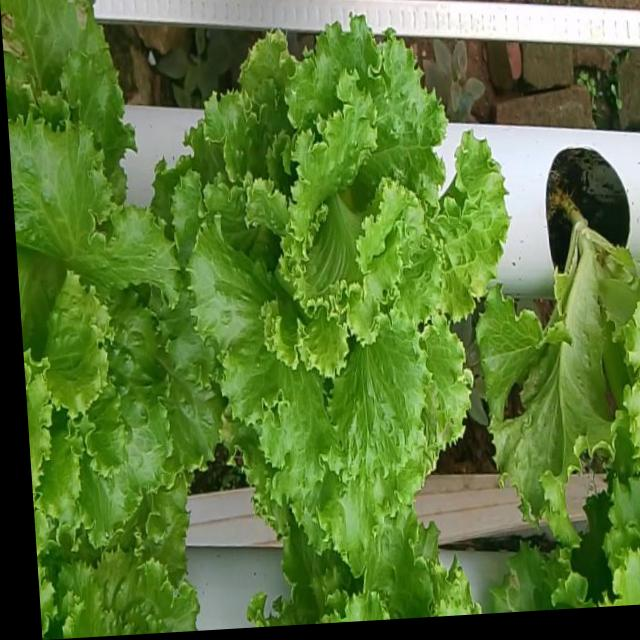Mature: (179, 0, 516, 541), (7, 95, 227, 535)
